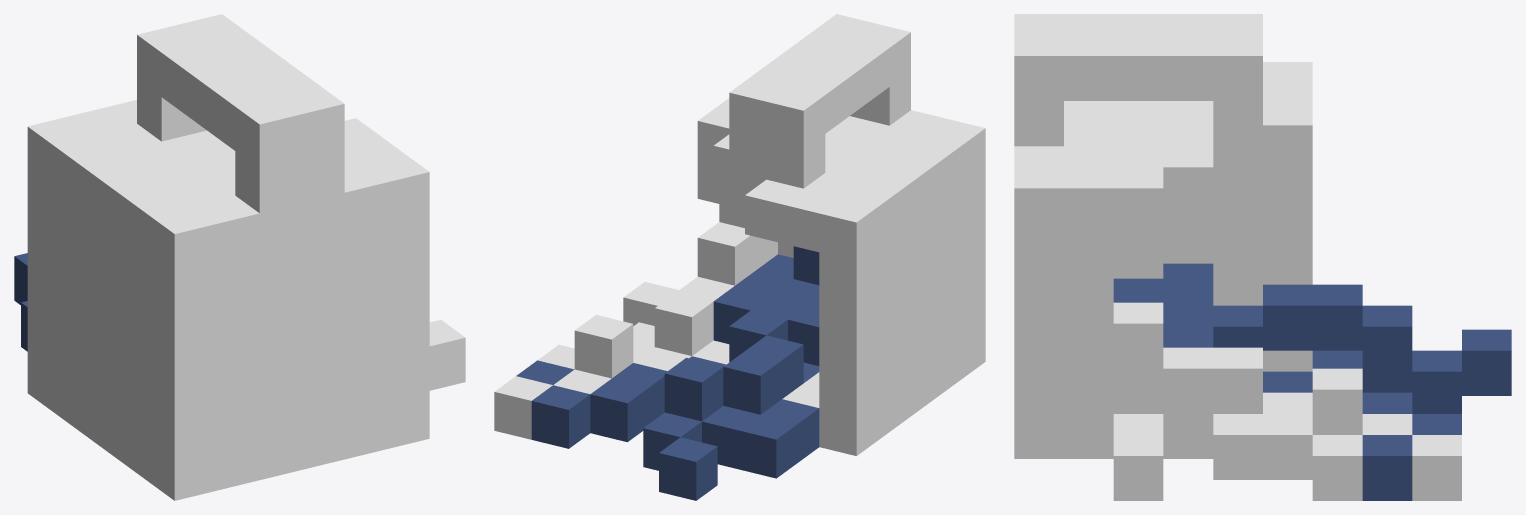
File: CupWhiteDestroy_with_water.obj
3 renders of one model, left to right at view 1: azimuth 30°, elevation 25°; view 2: azimuth 150°, elevation 25°; view 3: azimuth 270°, elevation 25°, orthographic. The views are drawn at different scales.
Bounding box in the file's own units: 0.8 × 0.8 × 1.
1 material, 1 textured.
